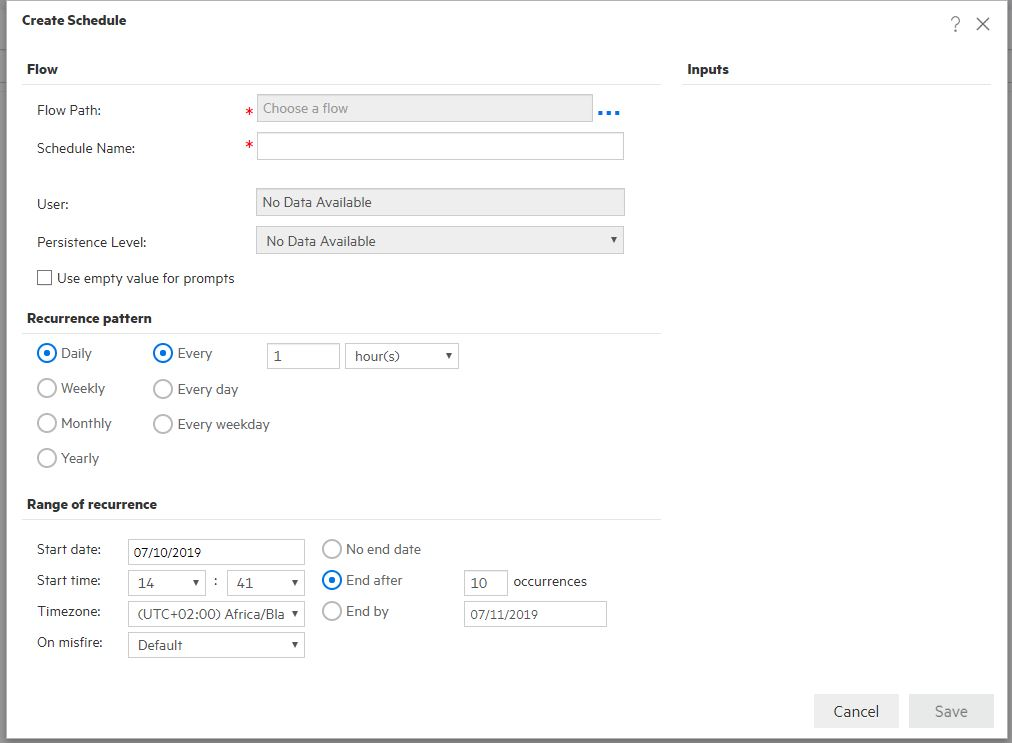button: (808, 690, 904, 732), (905, 690, 998, 732)
dropdown: (253, 224, 638, 265), (241, 90, 633, 129), (119, 630, 308, 668), (346, 337, 471, 382), (122, 603, 309, 630), (119, 566, 208, 600), (225, 570, 309, 600)
radiobutton: (141, 340, 177, 366), (146, 410, 179, 438), (320, 530, 344, 566), (143, 377, 176, 403), (33, 336, 58, 370), (33, 373, 58, 406), (30, 444, 59, 472), (319, 598, 346, 626), (32, 412, 59, 439), (319, 565, 346, 592)
textbox: (252, 188, 634, 222), (244, 133, 630, 165), (452, 598, 618, 634), (119, 538, 309, 565), (259, 338, 342, 372), (454, 565, 512, 598)
